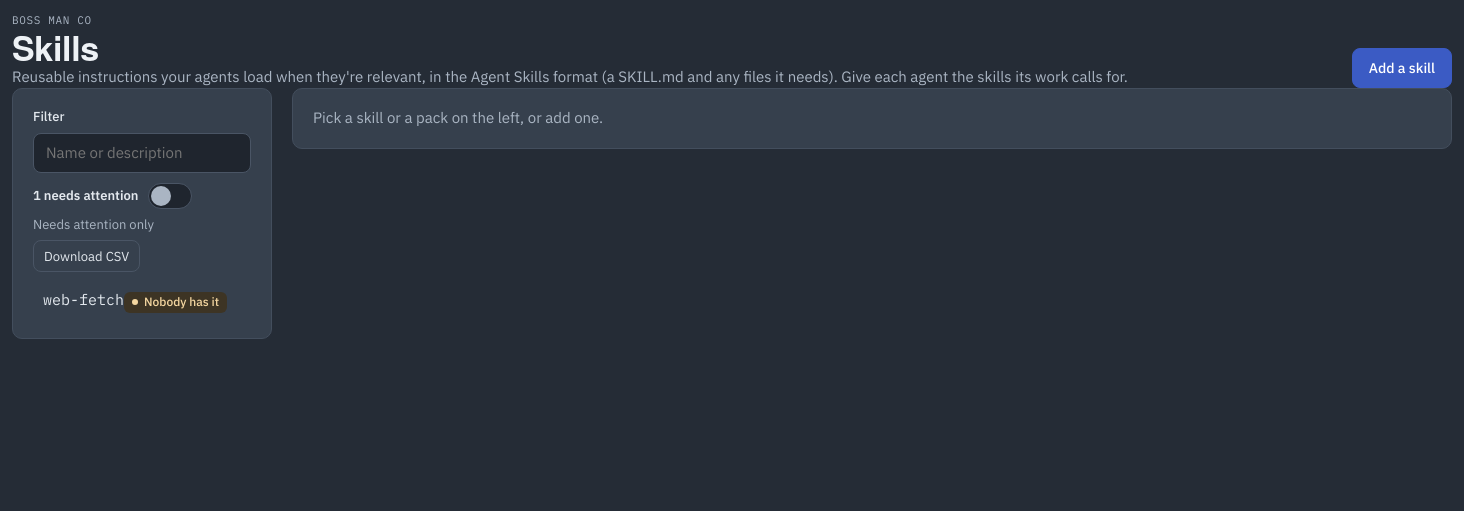
Test: skill history › says so when a skill has no history
This screenshot has width=1464, height=511.
Click the link "web-fetch Nobody has it". click: x=135, y=302
box: top-left (43, 290), bottom-right (227, 313)
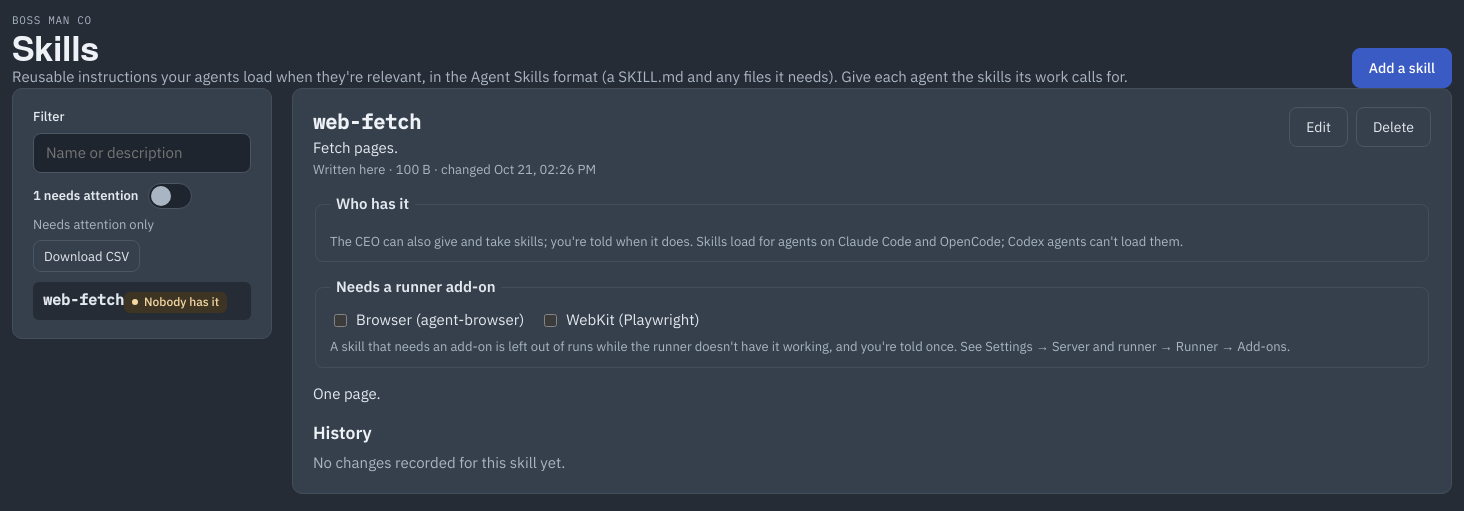
Now the text "No changes recorded for this skill yet." is shown, box top-left (313, 453), bottom-right (565, 472)
